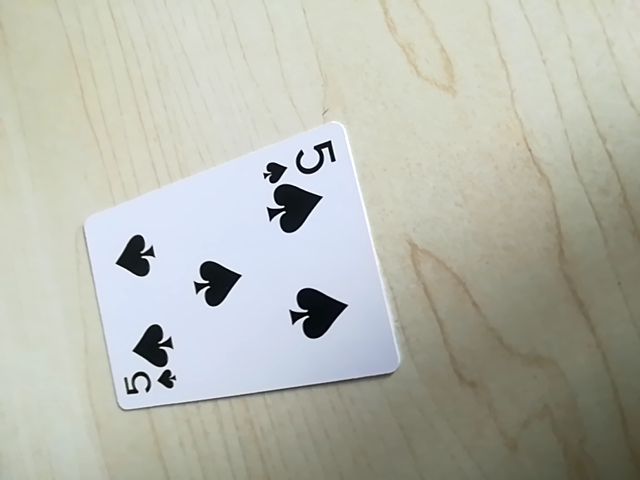ht 5: (261, 136, 341, 182), (115, 363, 182, 403)
